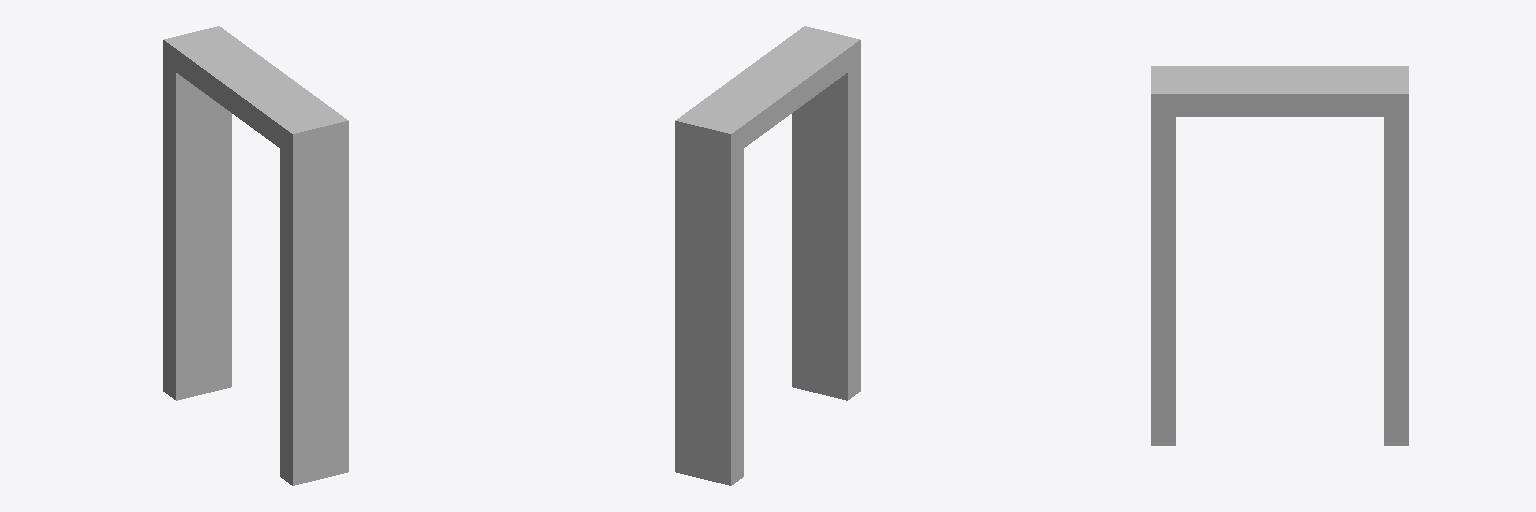
File: DoorFrame.obj
3 renders of one model, left to right at view 1: azimuth 30°, elevation 25°; view 2: azimuth 150°, elevation 25°; view 3: azimuth 270°, elevation 25°, orthographic.
Bounding box in the file's own units: 10 × 60 × 40.